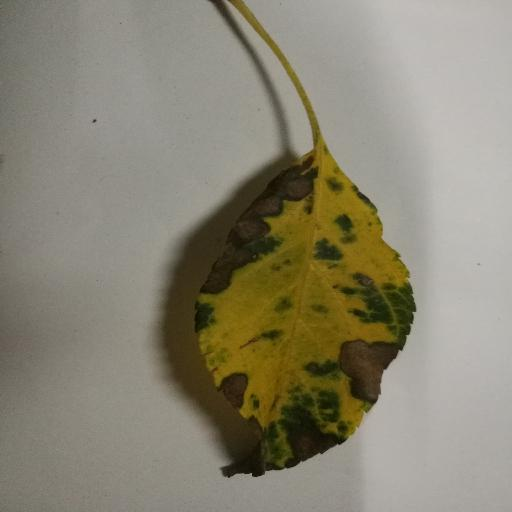Brown_Spot: (194, 159, 307, 307), (340, 343, 391, 403), (223, 377, 262, 433)
